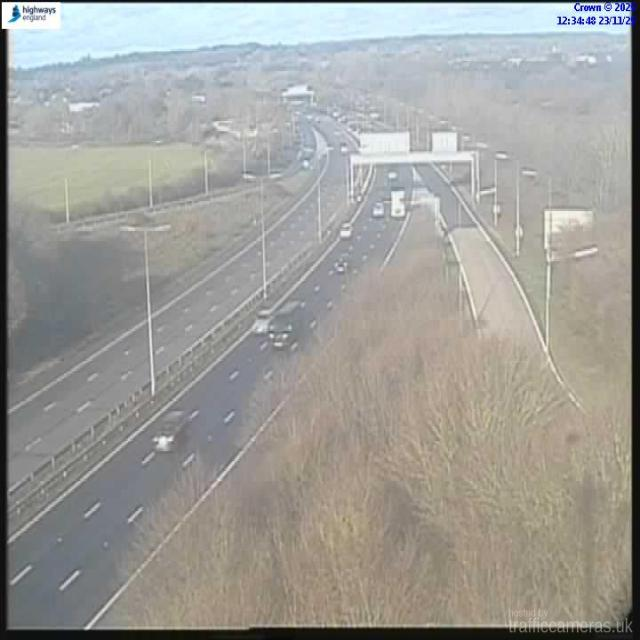foliage: (102, 249, 631, 629)
